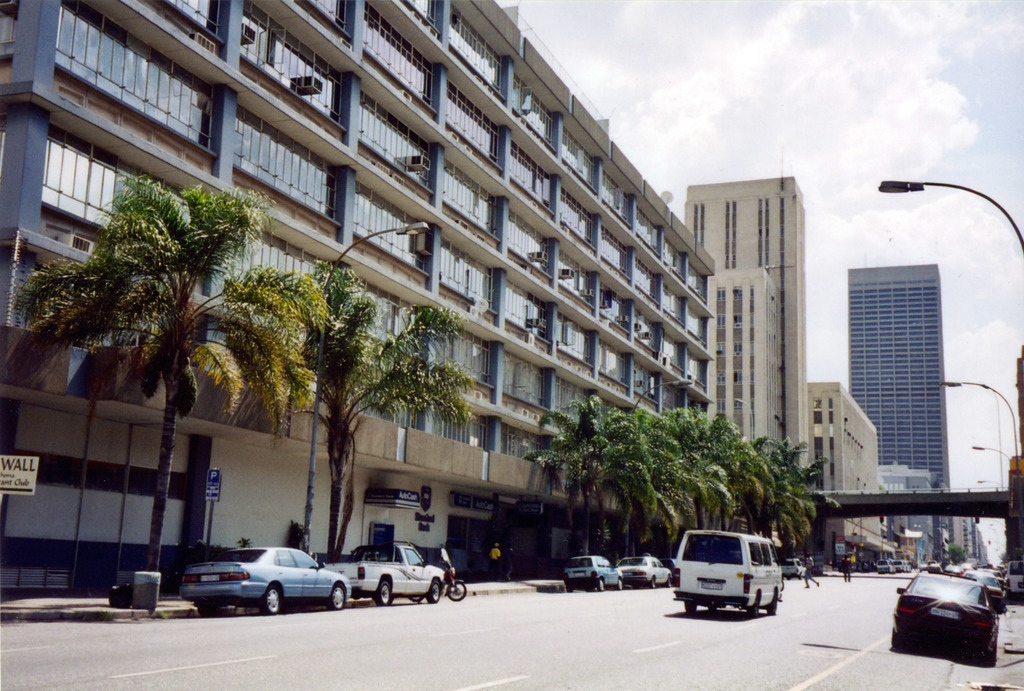Car: (184, 548, 349, 612), (679, 536, 791, 628), (894, 571, 999, 667), (625, 555, 676, 588), (567, 557, 621, 588)
